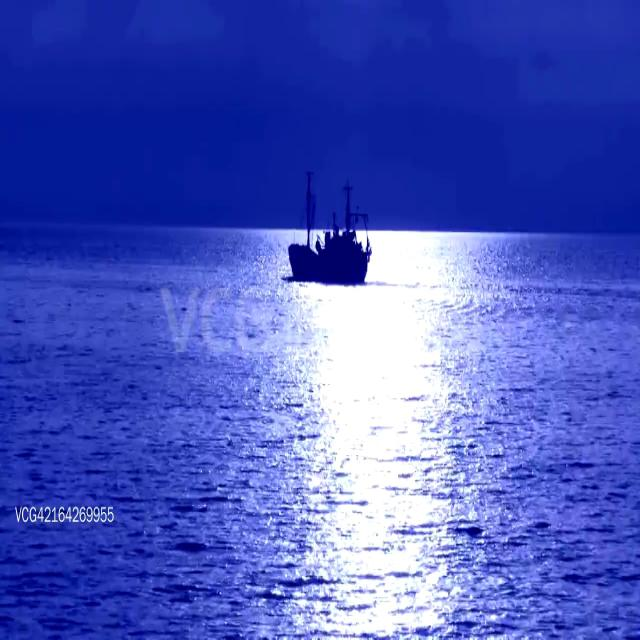houseboat: (287, 166, 373, 283)
